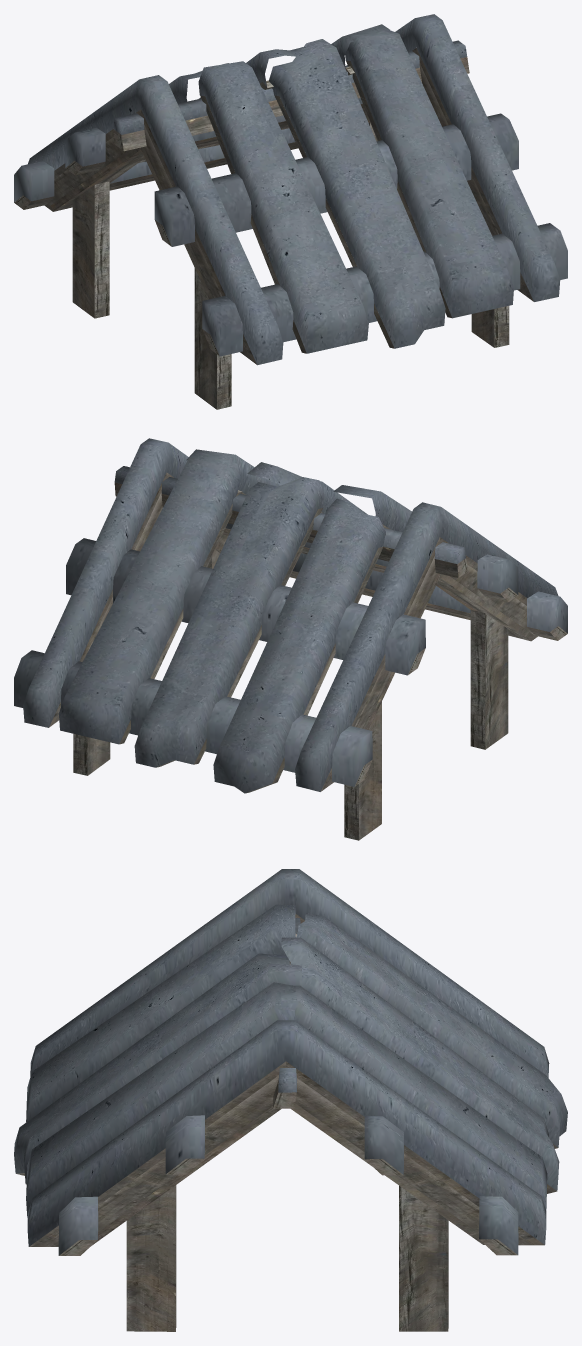
File: dlc2svintceilmid01chimney02-transformed.glb
3 renders of one model, top to bottom at view 1: azimuth 30°, elevation 25°; view 2: azimuth 150°, elevation 25°; view 3: azimuth 270°, elevation 25°, orthographic. The views are drawn at different scales.
Parts seen in each view (by area): view 1: default; view 2: default; view 3: default.
Boxes of the visible parts, x1,y1,x2,y2 form: default: [14, 14, 567, 409]; default: [14, 438, 567, 840]; default: [14, 869, 567, 1331].
Size of the model in its own units: 2.15 by 1.66 by 2.71.
Materials: 2 (2 with a texture image).
